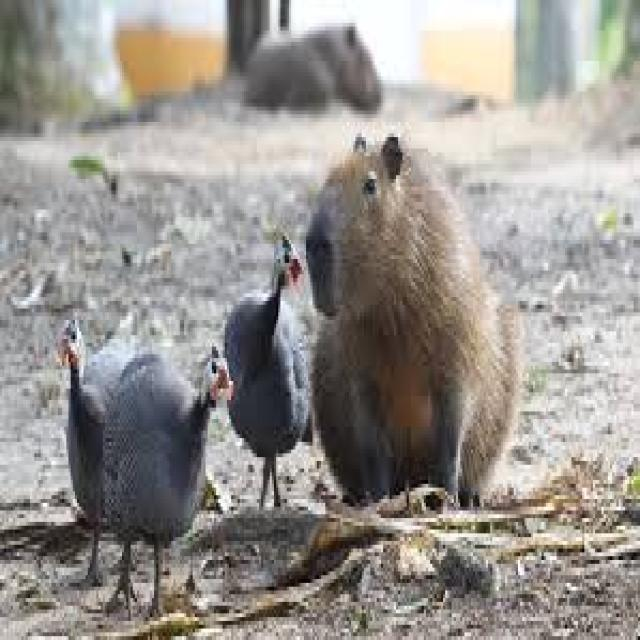capy: (305, 129, 521, 516)
